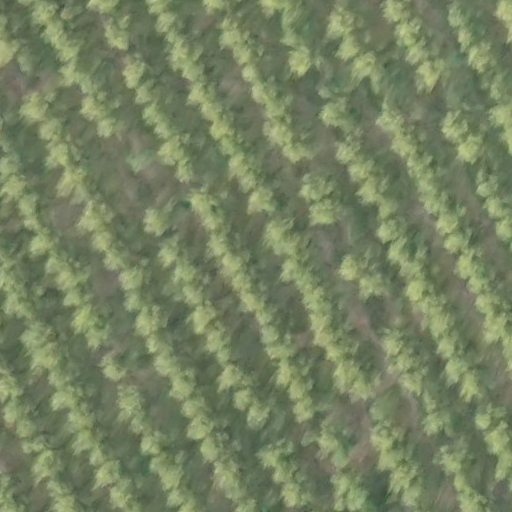eucalipto: (331, 356, 379, 404), (316, 425, 357, 466), (76, 195, 118, 235), (335, 247, 380, 284), (300, 167, 345, 203), (88, 453, 127, 494), (283, 254, 323, 293), (262, 220, 300, 259), (129, 306, 174, 338), (150, 452, 186, 492), (374, 214, 413, 249), (102, 15, 137, 54), (192, 192, 226, 232), (16, 89, 53, 125), (254, 437, 295, 469), (29, 448, 64, 485), (328, 133, 367, 166), (437, 223, 476, 256), (243, 183, 281, 216), (357, 171, 393, 205), (259, 120, 295, 154), (56, 162, 89, 199), (299, 288, 338, 319), (153, 232, 187, 267), (169, 35, 203, 70), (410, 59, 445, 92), (186, 82, 221, 115), (39, 137, 73, 170), (452, 132, 487, 164), (95, 349, 130, 381), (161, 132, 197, 163), (440, 110, 470, 147), (328, 8, 366, 37), (113, 381, 146, 414), (149, 10, 184, 41), (85, 87, 121, 117), (230, 166, 266, 196), (184, 414, 220, 444), (142, 205, 175, 237), (222, 149, 256, 180), (310, 196, 342, 228), (117, 262, 150, 293), (394, 14, 425, 47), (93, 114, 127, 144), (207, 327, 237, 361), (265, 339, 302, 366), (459, 371, 490, 403), (435, 332, 468, 362), (280, 138, 314, 167), (439, 358, 473, 387), (338, 32, 374, 59), (269, 460, 305, 487), (26, 229, 57, 260), (291, 44, 321, 76), (261, 91, 291, 123), (8, 191, 40, 221), (406, 38, 439, 67), (424, 301, 453, 334), (207, 232, 237, 263), (181, 59, 212, 89), (132, 77, 165, 105), (190, 302, 218, 335), (311, 313, 338, 347), (53, 383, 83, 413), (166, 371, 197, 400), (138, 428, 167, 459), (221, 251, 252, 280), (98, 245, 129, 273), (241, 401, 272, 429), (35, 119, 66, 147), (109, 478, 136, 510), (250, 74, 278, 104), (373, 420, 404, 447), (174, 395, 210, 418), (470, 407, 499, 435), (216, 363, 243, 393), (230, 38, 260, 65), (153, 116, 183, 143), (466, 275, 497, 301), (379, 1, 410, 27), (290, 399, 321, 425), (20, 431, 52, 456), (74, 308, 105, 333), (72, 428, 100, 455), (425, 409, 453, 436), (474, 175, 505, 199), (240, 296, 272, 319), (409, 277, 436, 304), (210, 109, 236, 137), (67, 405, 95, 431), (141, 102, 174, 124), (87, 228, 117, 252), (275, 359, 302, 385), (230, 386, 258, 411), (484, 196, 512, 221), (456, 249, 481, 277), (123, 58, 148, 85), (286, 375, 312, 400), (436, 211, 464, 234), (202, 438, 227, 461), (259, 325, 285, 347), (16, 416, 38, 440), (494, 218, 512, 244), (385, 198, 405, 216)
